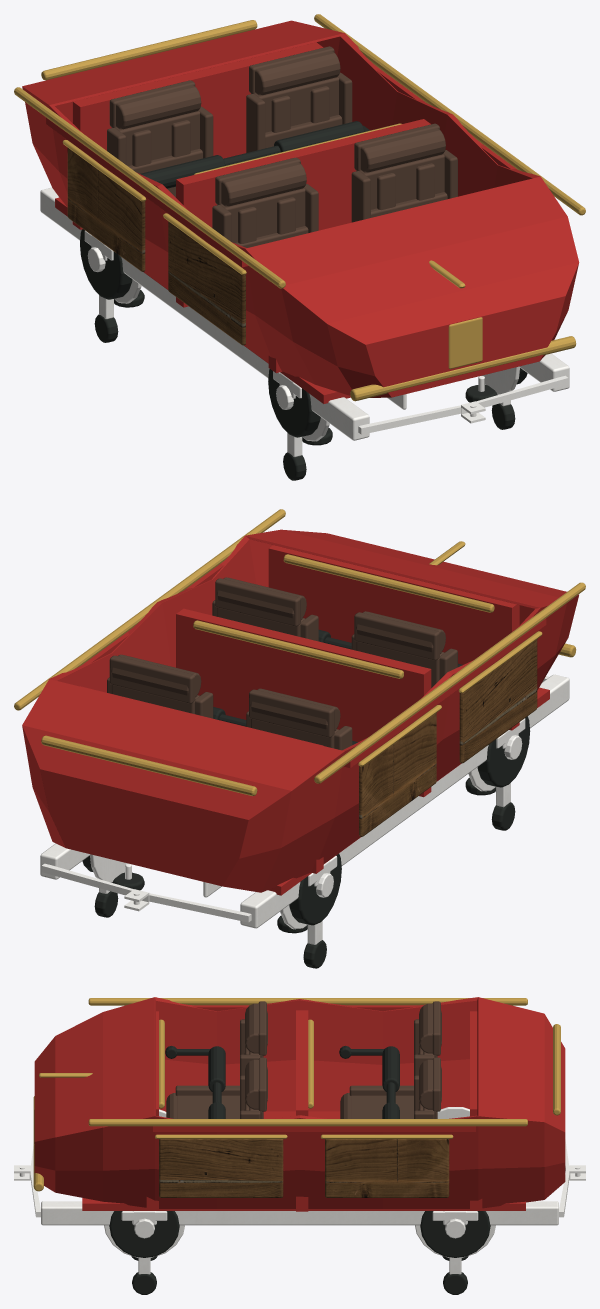
File: wooden-car-joint.glb
3 renders of one model, top to bottom at view 1: azimuth 30°, elevation 25°; view 2: azimuth 150°, elevation 25°; view 3: azimuth 270°, elevation 25°, orthographic. The views are drawn at different scales.
Visible parts, largest first — view 1: CarBody_Tub, Seating_Cushions, CarBody_Trim, CarBody_TimberSide, Chassis_Frame, BogieFront_Treads, LapBar_Rear_Mesh, BogieRear_Treads, Mount_Assembly_Front, BogieFront_Metal, BogieRear_Metal; view 2: CarBody_Tub, Seating_Cushions, CarBody_Trim, CarBody_TimberSide, Chassis_Frame, BogieRear_Treads, BogieFront_Treads, Mount_Assembly_Rear, BogieRear_Metal, BogieFront_Metal; view 3: CarBody_Tub, CarBody_TimberSide, Seating_Cushions, CarBody_Trim, Chassis_Frame, BogieFront_Treads, BogieRear_Treads, BogieRear_Metal, LapBar_Rear_Mesh, LapBar_Front_Mesh, BogieFront_Metal, Mount_Assembly_Rear (+1 smaller).
Boxes of the visible parts, bbox=[...] form: CarBody_Tub: bbox=[22, 20, 579, 403]; Seating_Cushions: bbox=[107, 46, 457, 247]; CarBody_Trim: bbox=[14, 14, 585, 401]; CarBody_TimberSide: bbox=[67, 148, 245, 345]; Chassis_Frame: bbox=[40, 187, 569, 440]; BogieFront_Treads: bbox=[268, 368, 527, 480]; LapBar_Rear_Mesh: bbox=[140, 121, 369, 188]; BogieRear_Treads: bbox=[80, 229, 144, 342]; Mount_Assembly_Front: bbox=[358, 375, 568, 434]; BogieFront_Metal: bbox=[273, 366, 519, 456]; BogieRear_Metal: bbox=[84, 230, 141, 319]; CarBody_Tub: bbox=[22, 529, 578, 895]; Seating_Cushions: bbox=[107, 577, 457, 750]; CarBody_Trim: bbox=[14, 509, 585, 796]; CarBody_TimberSide: bbox=[359, 639, 537, 836]; Chassis_Frame: bbox=[40, 674, 569, 928]; BogieRear_Treads: bbox=[82, 853, 341, 968]; BogieFront_Treads: bbox=[465, 716, 530, 830]; Mount_Assembly_Rear: bbox=[41, 863, 251, 922]; BogieRear_Metal: bbox=[90, 854, 337, 944]; BogieFront_Metal: bbox=[468, 718, 525, 807]; CarBody_Tub: bbox=[34, 997, 565, 1211]; CarBody_TimberSide: bbox=[159, 1139, 449, 1197]; Seating_Cushions: bbox=[166, 1001, 441, 1118]; CarBody_Trim: bbox=[33, 998, 560, 1191]; Chassis_Frame: bbox=[41, 1201, 558, 1225]; BogieFront_Treads: bbox=[109, 1211, 179, 1294]; BogieRear_Treads: bbox=[420, 1211, 490, 1294]; BogieRear_Metal: bbox=[415, 1107, 495, 1274]; LapBar_Rear_Mesh: bbox=[339, 1046, 399, 1118]; LapBar_Front_Mesh: bbox=[165, 1046, 225, 1118]; BogieFront_Metal: bbox=[104, 1109, 184, 1274]; Mount_Assembly_Rear: bbox=[559, 1139, 585, 1217].
Bounding box in the file's own units: 1.42 × 1.1 × 2.76.
Materials: 6 (2 with a texture image).
